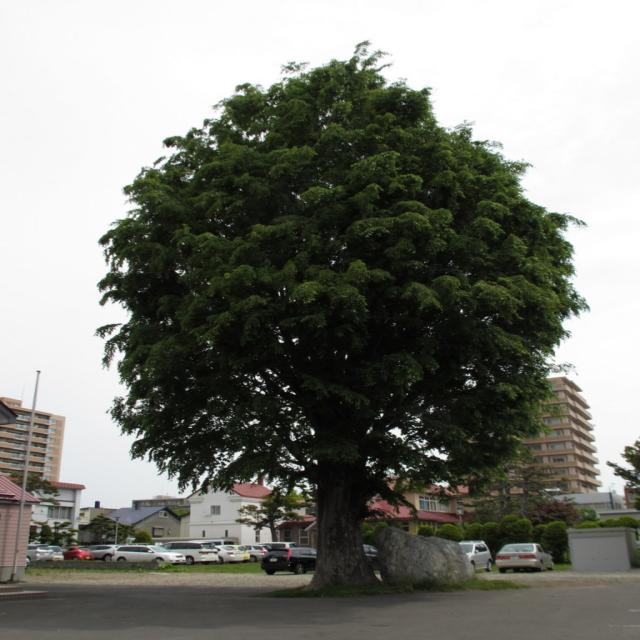zelkova: (95, 39, 591, 594)
